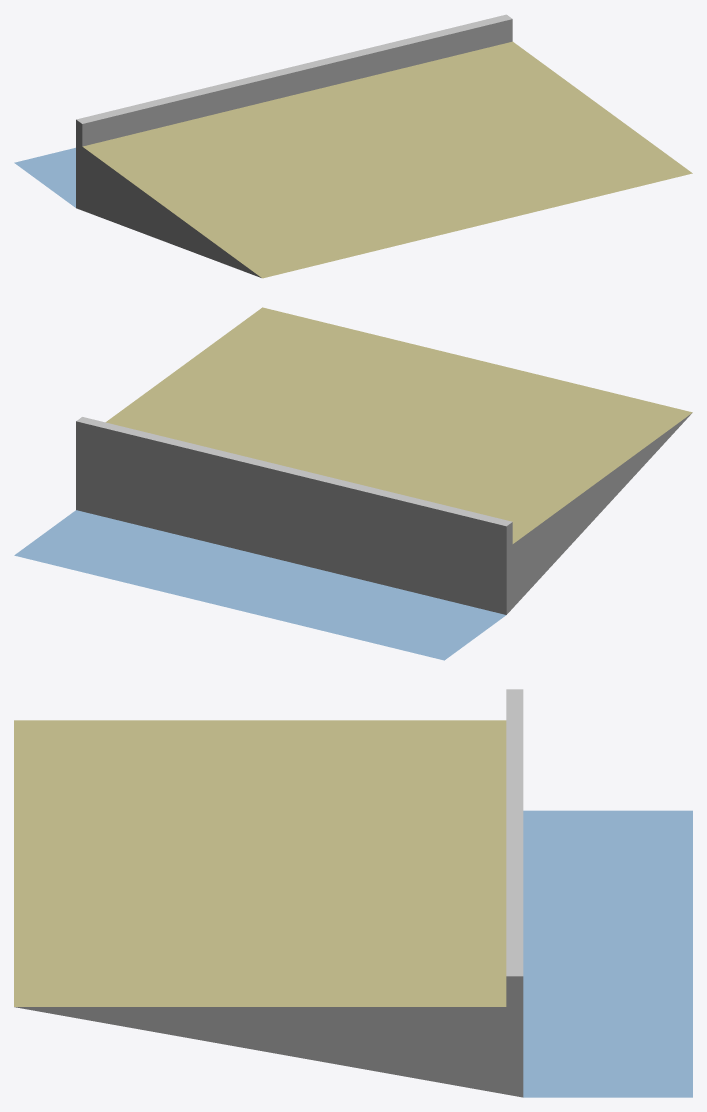
Rendered from port_tile_1x1_001.glb.
The picture shows the model from 3 angles, top to bottom: view 1: azimuth 30°, elevation 25°; view 2: azimuth 150°, elevation 25°; view 3: azimuth 270°, elevation 25°; orthographic projection. The views are drawn at different scales.
Parts seen in each view (by area): view 1: port_tile_1x1_001; view 2: port_tile_1x1_001; view 3: port_tile_1x1_001.
Part boxes in pixels (x1,y1,x2,y2): port_tile_1x1_001: (14,14,692,278); port_tile_1x1_001: (14,307,692,660); port_tile_1x1_001: (14,689,692,1097).
Bounding box in the file's own units: 8 × 1.58 × 8.
Materials: 1 (1 with a texture image).
